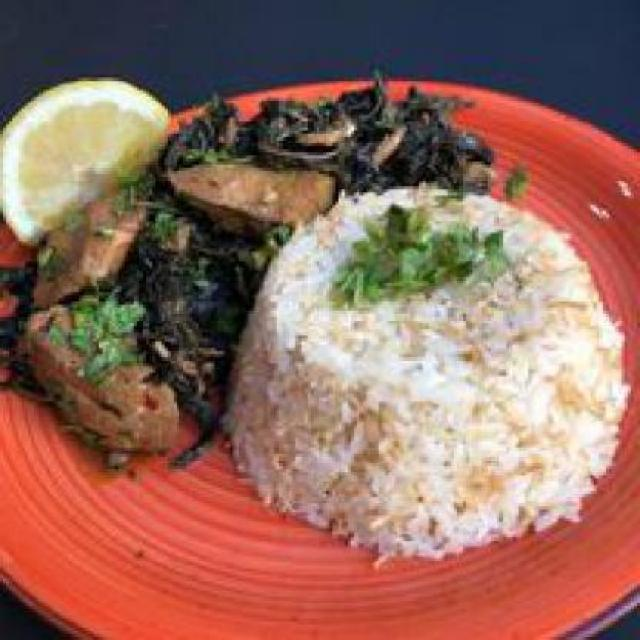fried rice: (223, 177, 634, 575)
molokhia: (2, 64, 386, 453)
